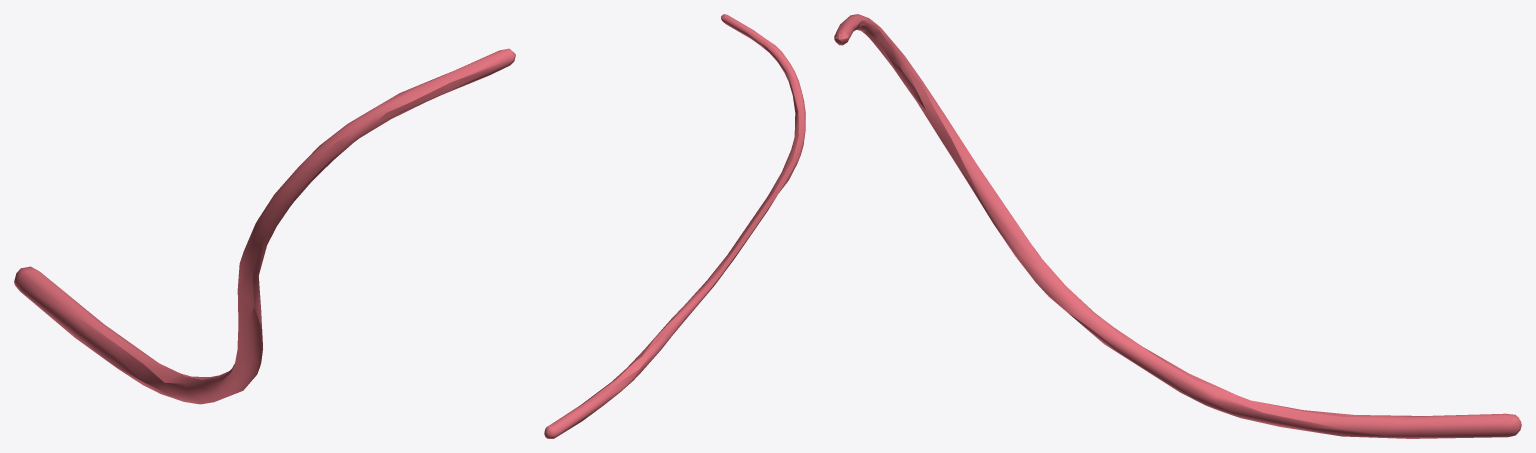
The model's file is fma50831_fj5075.glb.
The picture shows the model from 3 angles, left to right: view 1: azimuth 30°, elevation 25°; view 2: azimuth 150°, elevation 25°; view 3: azimuth 270°, elevation 25°; orthographic projection. The views are drawn at different scales.
Parts seen in each view (by area): view 1: FMA50831_FJ5075; view 2: FMA50831_FJ5075; view 3: FMA50831_FJ5075.
Part boxes in pixels (x1,y1,x2,y2): FMA50831_FJ5075: [14, 48, 515, 404]; FMA50831_FJ5075: [544, 14, 805, 438]; FMA50831_FJ5075: [834, 14, 1521, 438].
Bounding box in the file's own units: 0.00632 × 0.0151 × 0.0218.
